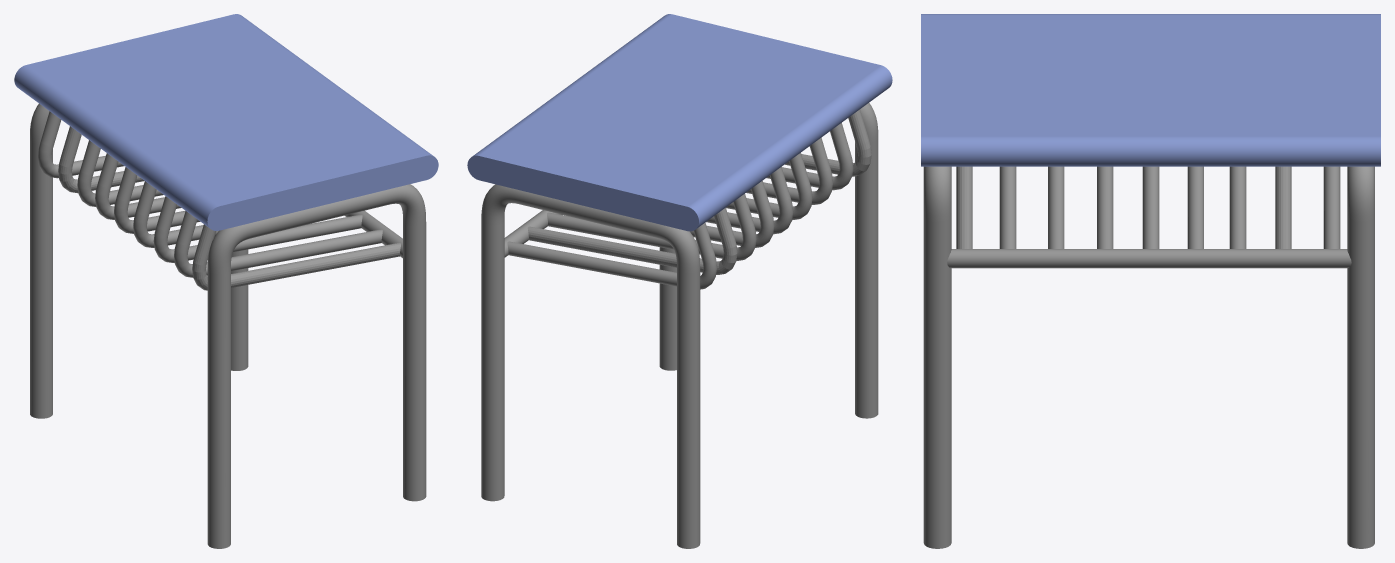
File: Table_textured.fbx
3 renders of one model, left to right at view 1: azimuth 30°, elevation 25°; view 2: azimuth 150°, elevation 25°; view 3: azimuth 270°, elevation 25°, orthographic. The views are drawn at different scales.
Visible parts, largest first — view 1: Table_top, pasted__pCylinder4, pasted__pasted__pasted__pasted__pCylinder6 (×5), pasted__pasted__pCylinder4, pasted__pasted__pasted__pasted__pasted__pCylinder6 (×3), pasted__pasted__pasted__pCylinder6, pasted__pCylinder1; view 2: Table_top, pasted__pasted__pCylinder4, pasted__pCylinder4, pasted__pasted__pasted__pasted__pCylinder6 (×5), pasted__pasted__pasted__pasted__pasted__pCylinder6 (×3), pasted__pasted__pasted__pCylinder6, pasted__pCylinder1; view 3: Table_top, pasted__pCylinder4, pasted__pasted__pCylinder4, pasted__pCylinder1, pasted__pasted__pasted__pasted__pCylinder6 (×5), pasted__pasted__pasted__pasted__pasted__pCylinder6 (×3), pasted__pasted__pasted__pCylinder6.
Boxes of the visible parts, <box> form: Table_top: <box>14,14,438,230</box>; pasted__pCylinder4: <box>207,184,426,548</box>; pasted__pasted__pasted__pasted__pCylinder6 (×5): <box>38,111,400,290</box>; pasted__pasted__pCylinder4: <box>30,103,248,418</box>; pasted__pasted__pasted__pasted__pasted__pCylinder6 (×3): <box>58,126,181,219</box>; pasted__pasted__pasted__pCylinder6: <box>174,211,382,277</box>; pasted__pCylinder1: <box>344,210,402,258</box>; Table_top: <box>467,14,892,231</box>; pasted__pasted__pCylinder4: <box>481,184,700,548</box>; pasted__pCylinder4: <box>659,103,878,418</box>; pasted__pasted__pasted__pasted__pCylinder6 (×5): <box>507,109,871,289</box>; pasted__pasted__pasted__pasted__pasted__pCylinder6 (×3): <box>527,181,774,274</box>; pasted__pasted__pasted__pCylinder6: <box>766,123,853,190</box>; pasted__pCylinder1: <box>504,210,562,257</box>; Table_top: <box>921,14,1380,166</box>; pasted__pCylinder4: <box>923,166,951,548</box>; pasted__pasted__pCylinder4: <box>1347,166,1374,548</box>; pasted__pCylinder1: <box>947,249,1351,268</box>; pasted__pasted__pasted__pasted__pCylinder6 (×5): <box>956,166,1340,248</box>; pasted__pasted__pasted__pasted__pasted__pCylinder6 (×3): <box>1187,166,1291,248</box>; pasted__pasted__pasted__pCylinder6: <box>999,166,1016,248</box>.
Bounding box in the file's own units: 5.73 × 8.16 × 8.29.
